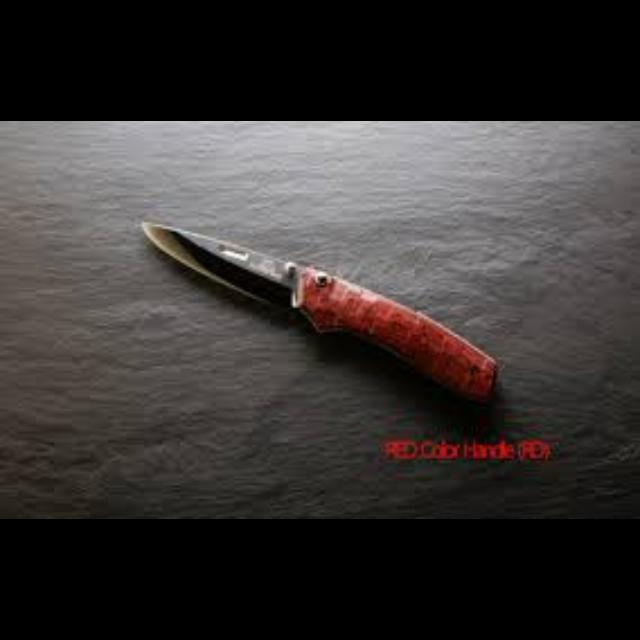knife: (140, 218, 498, 404)
